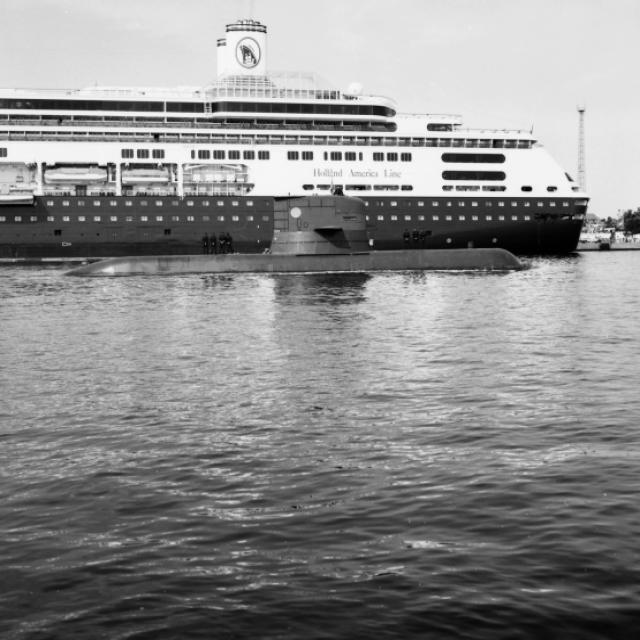submarine: (64, 196, 527, 275)
